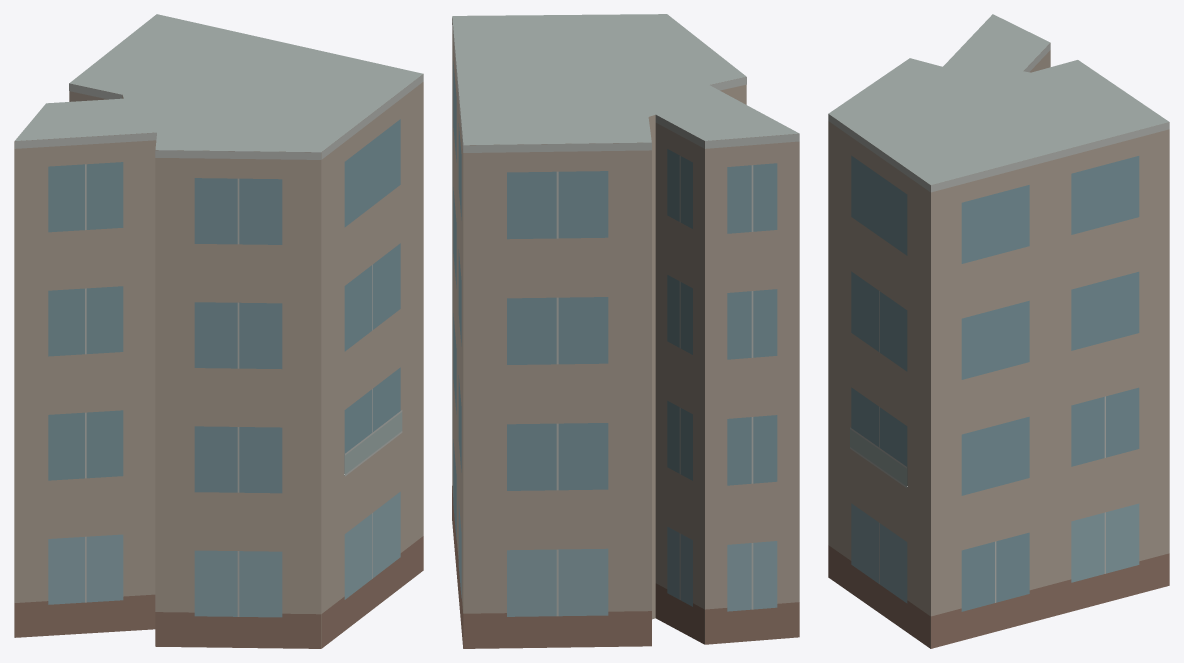
File: survey-upis-32462490.glb
3 views of the same model, side by side, from view 1: azimuth 30°, elevation 25°; view 2: azimuth 150°, elevation 25°; view 3: azimuth 270°, elevation 25° (orthographic). The views are drawn at different scales.
Visible parts, largest first — view 1: survey-upis-32462490.tmp; view 2: survey-upis-32462490.tmp; view 3: survey-upis-32462490.tmp.
Part boxes in pixels (x1,y1,x2,y2): survey-upis-32462490.tmp: (14,14,423,648); survey-upis-32462490.tmp: (452,14,799,648); survey-upis-32462490.tmp: (828,14,1169,648).
Bounding box in the file's own units: 12.36 × 15.6 × 10.42.
